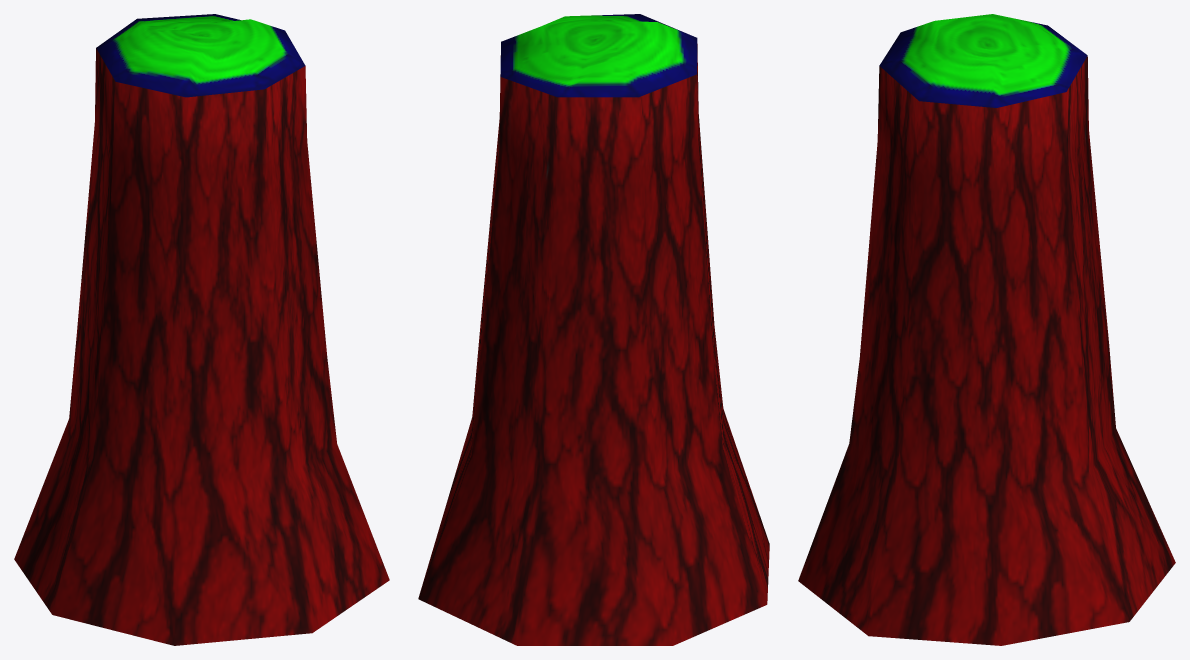
File: PineStump01.fbx
3 views of the same model, side by side, from view 1: azimuth 30°, elevation 25°; view 2: azimuth 150°, elevation 25°; view 3: azimuth 270°, elevation 25° (orthographic).
Visible parts, largest first — view 1: PineStump01_LOD0; view 2: PineStump01_LOD0; view 3: PineStump01_LOD0.
Boxes of the visible parts, left/top/right/bottom form: PineStump01_LOD0: left=14, top=14, right=389, bottom=645; PineStump01_LOD0: left=418, top=14, right=769, bottom=645; PineStump01_LOD0: left=798, top=14, right=1175, bottom=645.
Size of what is drawn, in the model's own units: 0.3714 by 0.6183 by 0.3932.
